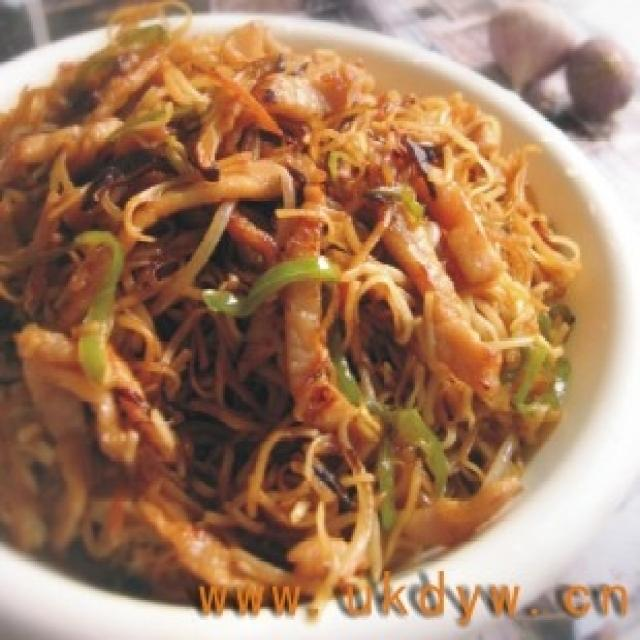面条主食: (4, 16, 611, 614)
